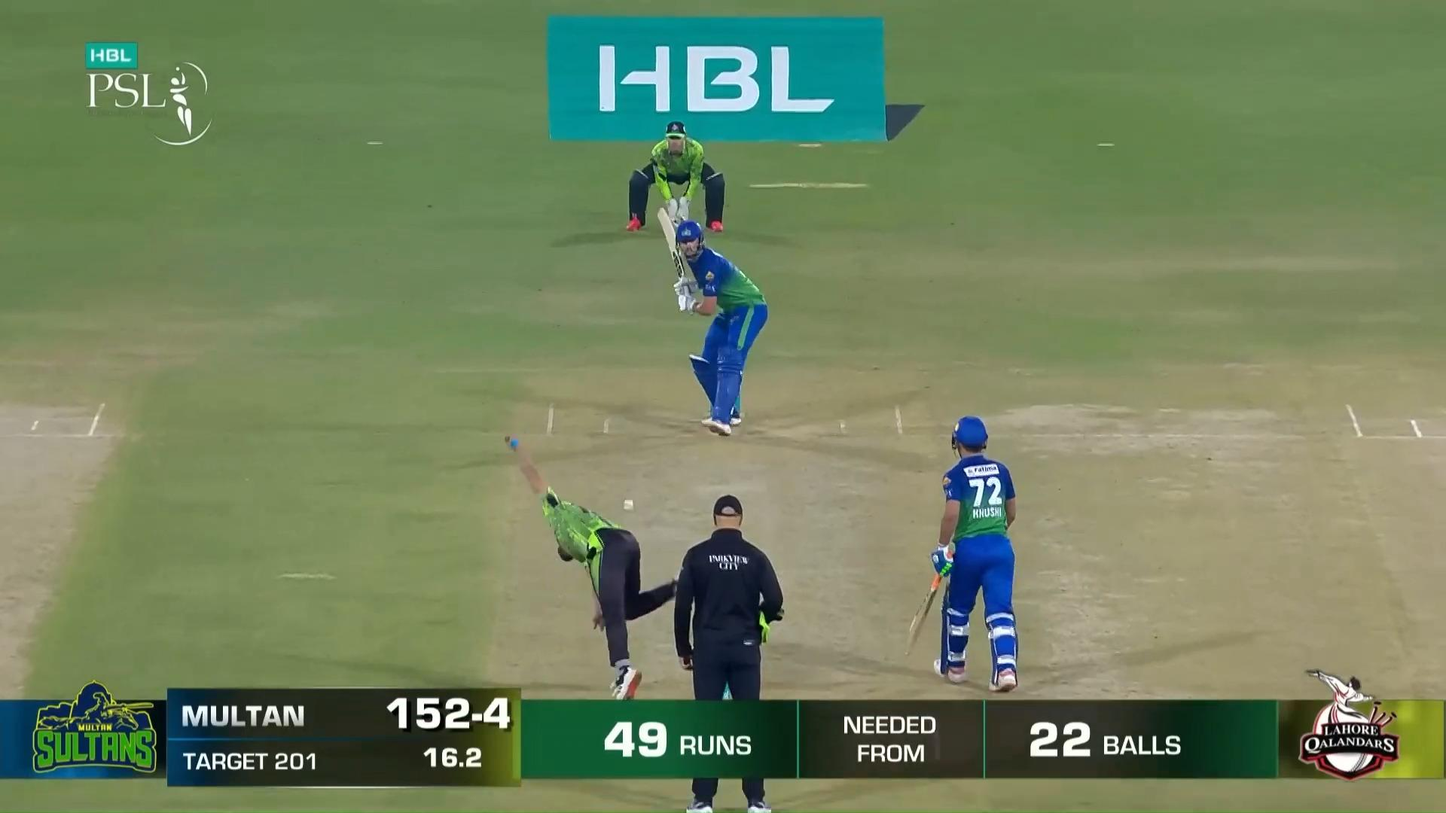batsman: (656, 206, 769, 436)
